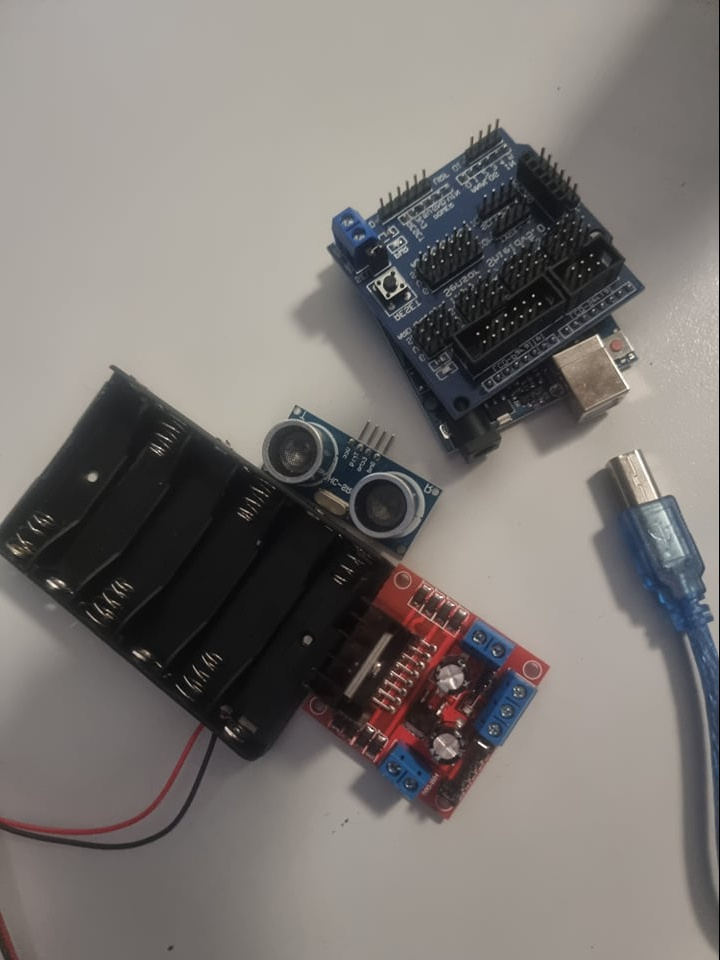5V EXPANSION: (327, 115, 652, 340)
BATTERY BOX: (1, 367, 340, 768)
MOTOR: (297, 564, 558, 823)
SENSOR: (264, 406, 443, 554)
UNO R3: (445, 340, 690, 474)
